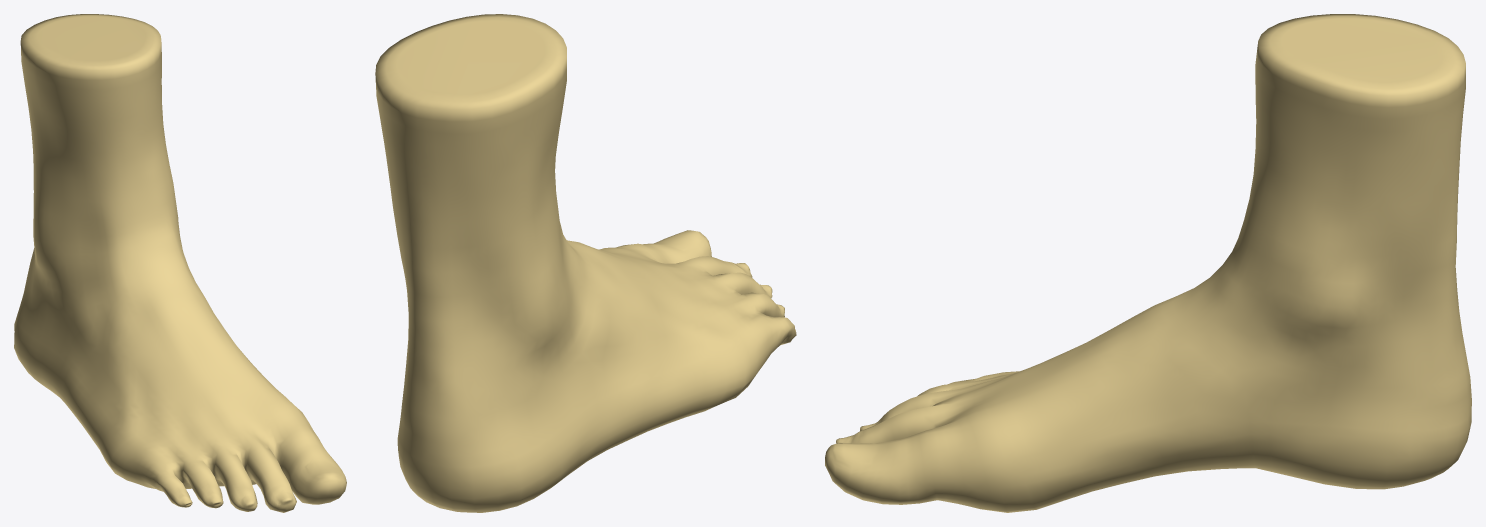
File: RightFoot.glb
3 views of the same model, side by side, from view 1: azimuth 30°, elevation 25°; view 2: azimuth 150°, elevation 25°; view 3: azimuth 270°, elevation 25° (orthographic). The views are drawn at different scales.
Visible parts, largest first — view 1: Foot - Right; view 2: Foot - Right; view 3: Foot - Right.
Part boxes in pixels (x1,y1,x2,y2): Foot - Right: (14,14,346,512); Foot - Right: (375,14,796,512); Foot - Right: (825,14,1471,512).
Bounding box in the file's own units: 0.0912 × 0.1781 × 0.2359.
